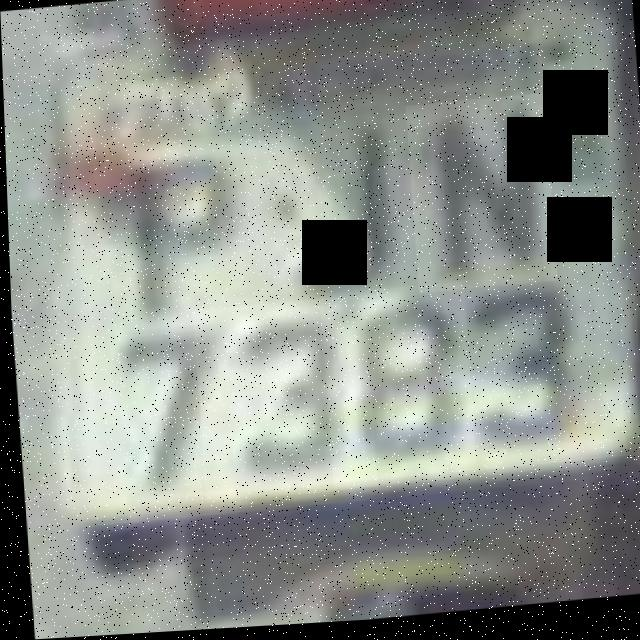3: (189, 298, 374, 506), (432, 264, 600, 476)
7: (69, 309, 242, 518)
8: (316, 286, 473, 494)
J: (254, 126, 425, 314)
N: (405, 99, 556, 298)
P: (90, 136, 246, 335)
